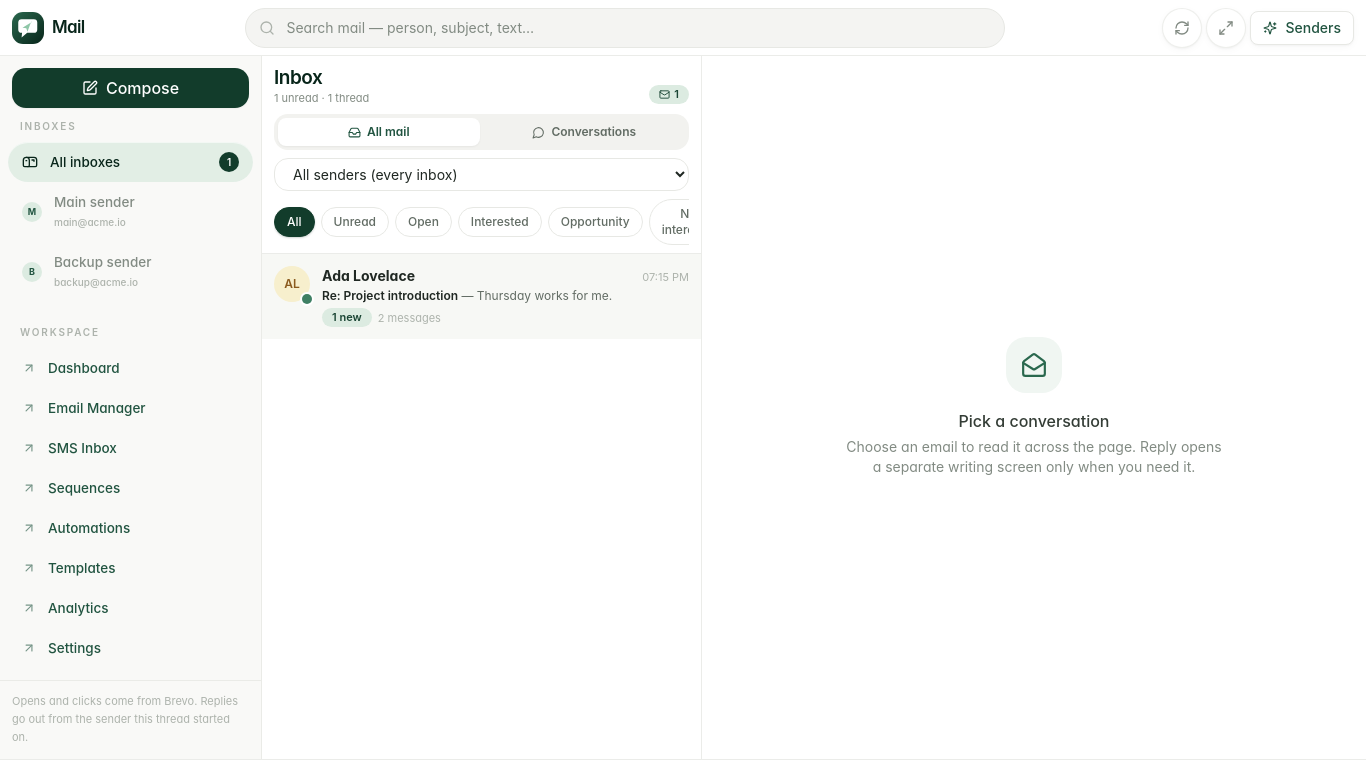
Scenario: EmailInboxPage — reading first, reply on its own page › gives the reading pane to the latest email, without an inline editor or forced scrolling
Click the button "Ada Lovelace": [482, 297] box [262,254,701,339]
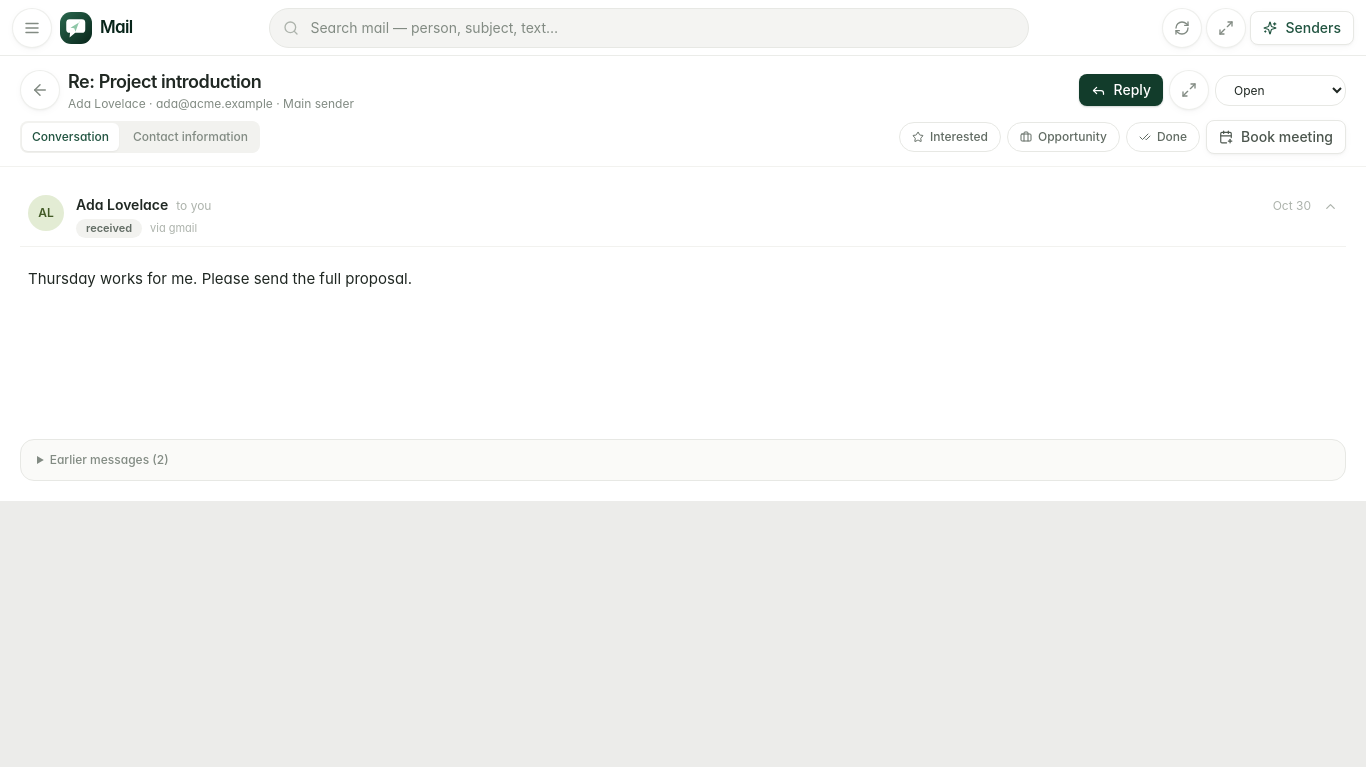
expect the text "Thursday works for me. Please send the full proposal." is shown: met, box [28,269,412,288]
expect the heading "Earlier messages (2)" is shown: met, box [50,452,169,467]
